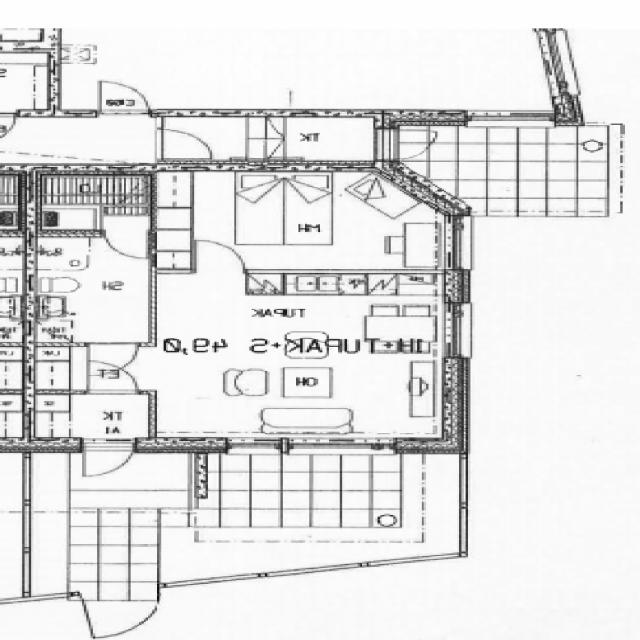door: (80, 583, 174, 640), (85, 442, 133, 482), (88, 358, 139, 394), (196, 240, 246, 274), (92, 342, 139, 375), (106, 229, 147, 258)
